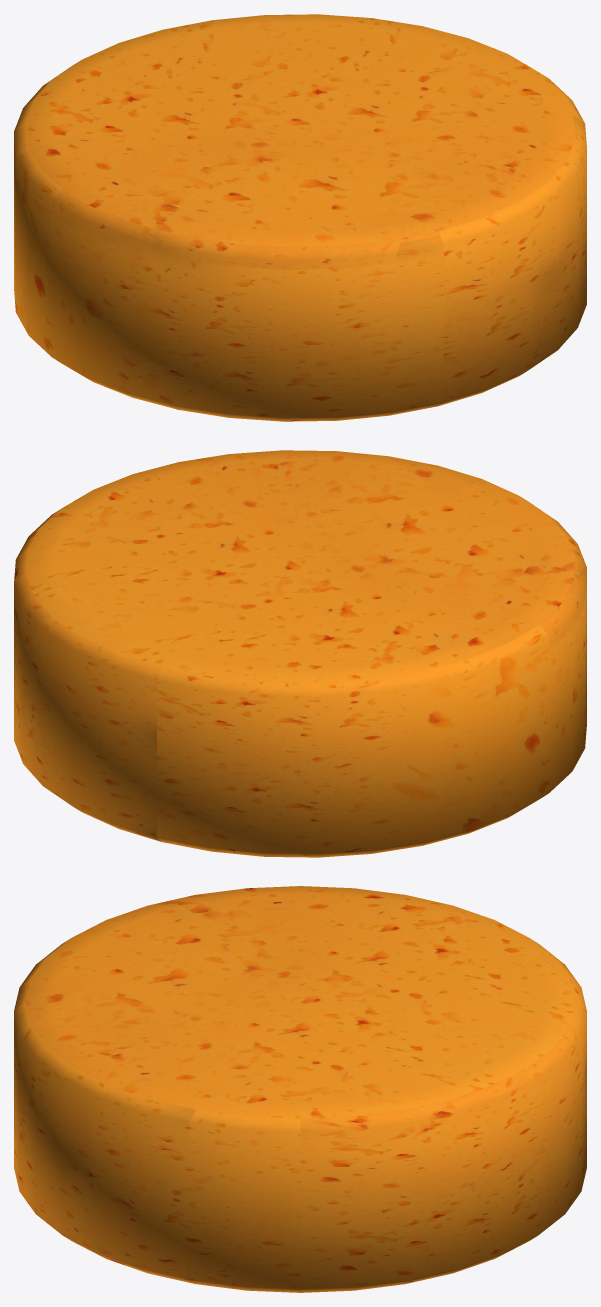
Rendered from kasar tam.fbx.
3 renders of one model, top to bottom at view 1: azimuth 30°, elevation 25°; view 2: azimuth 150°, elevation 25°; view 3: azimuth 270°, elevation 25°, orthographic.
Parts seen in each view (by area): view 1: Cylinder.004; view 2: Cylinder.004; view 3: Cylinder.004.
Part boxes in pixels (x1,y1,x2,y2): Cylinder.004: (14,14,586,421); Cylinder.004: (14,450,586,857); Cylinder.004: (14,886,586,1292).
Size of the model in its own units: 576 by 202 by 576.
1 material, 1 textured.
